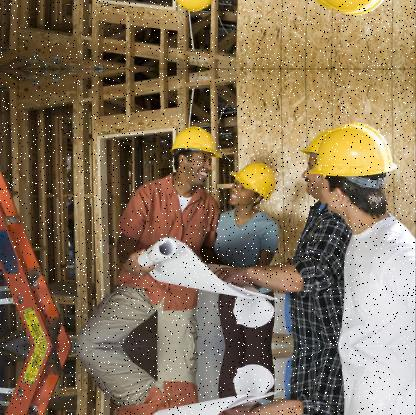helmet: (316, 122, 393, 212), (172, 125, 221, 186), (226, 162, 280, 205), (303, 127, 336, 197), (172, 0, 222, 12)
